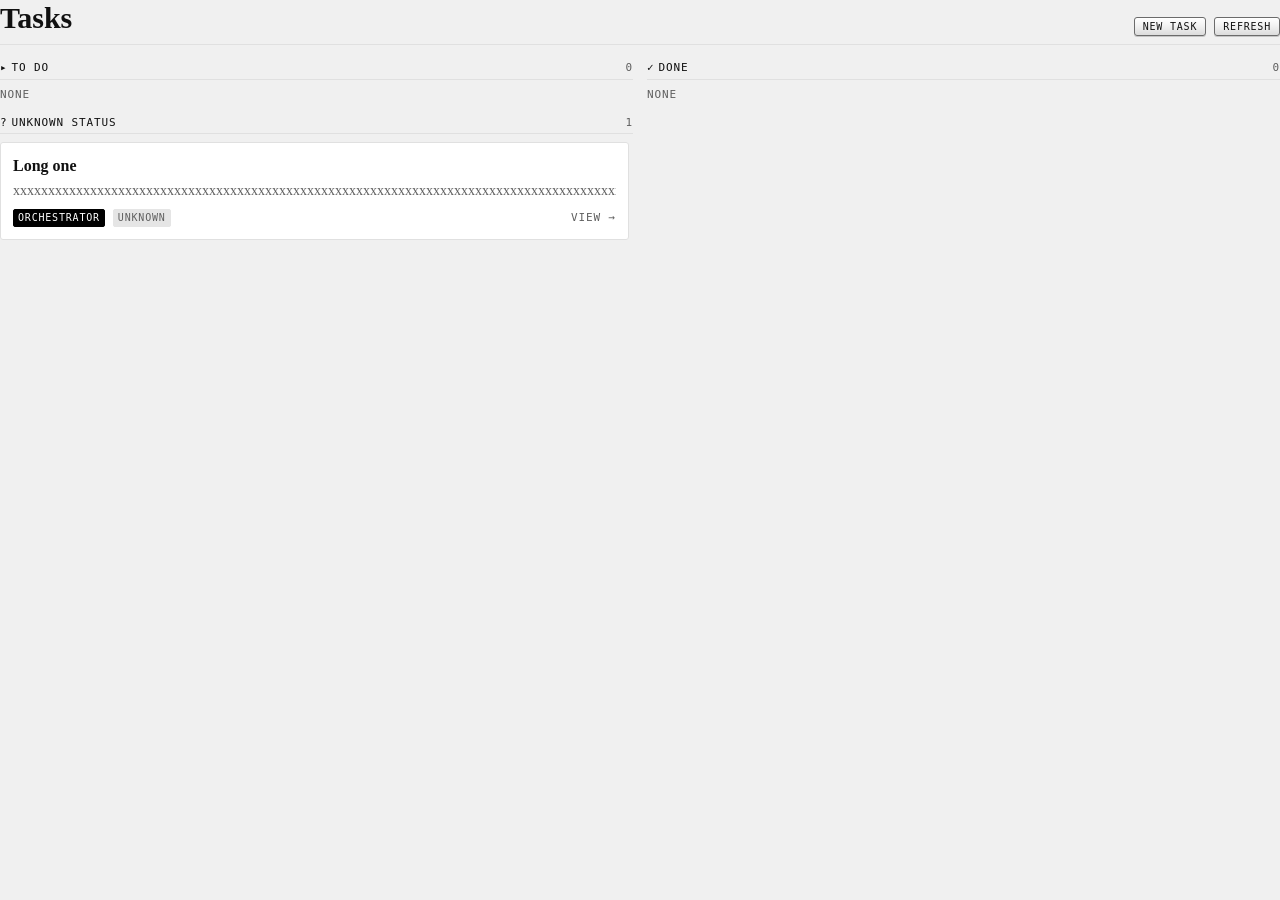
Scenario: tasks board (tasks.md ACC 1-3) › clamps the card, keeps the raw agent_type chip, and never prints an Invalid Date (ACC 2)
Expected: the text with class "line-clamp-2" is shown, x1=13 y1=181 x2=616 y2=201
Expected: the text "Long one" is shown, x1=13 y1=155 x2=77 y2=177
// The null date surfaces as the placeholder where a date WOULD be shown (the sheet's row).
Click the button with aria-label "Open task: Long one". click: (314, 191)
box: x1=0 y1=142 x2=629 y2=240
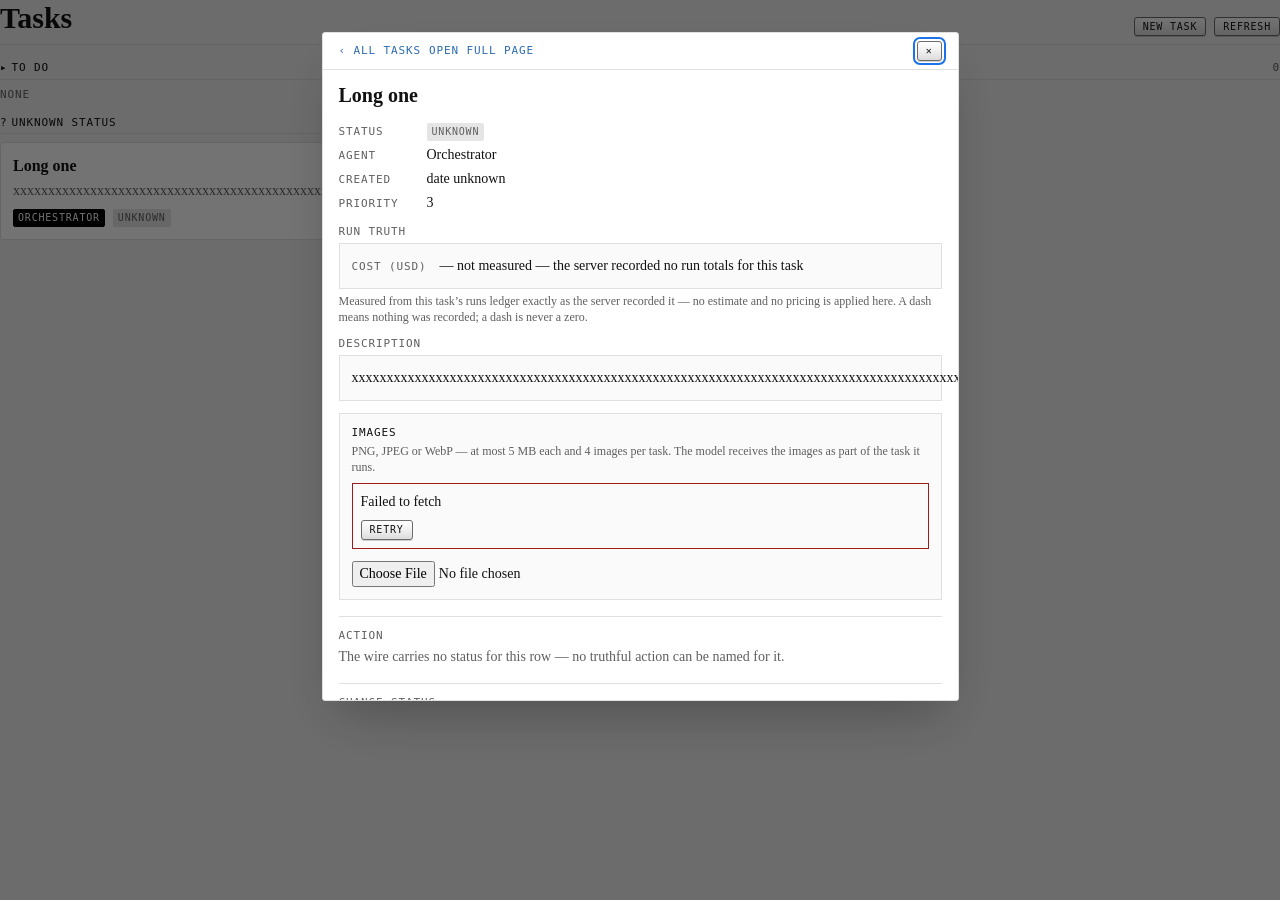
Now the text "date unknown" is shown, box x1=426 y1=171 x2=505 y2=186
